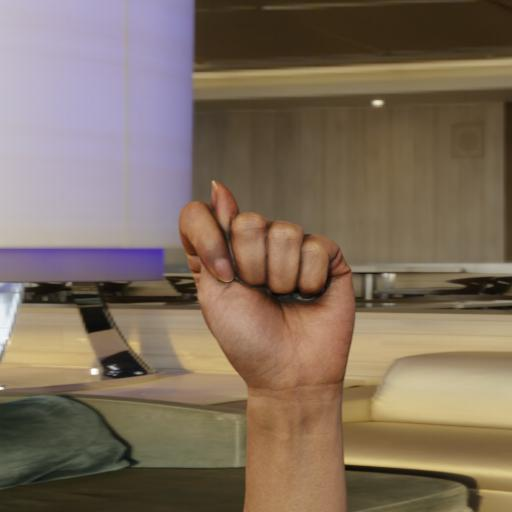T: (174, 172, 368, 406)
